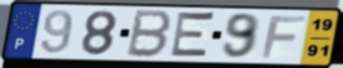8: (81, 9, 119, 57)
9: (219, 12, 264, 61), (39, 8, 74, 55)
B: (124, 8, 175, 60)
E: (167, 9, 218, 61)
F: (260, 14, 309, 59)
